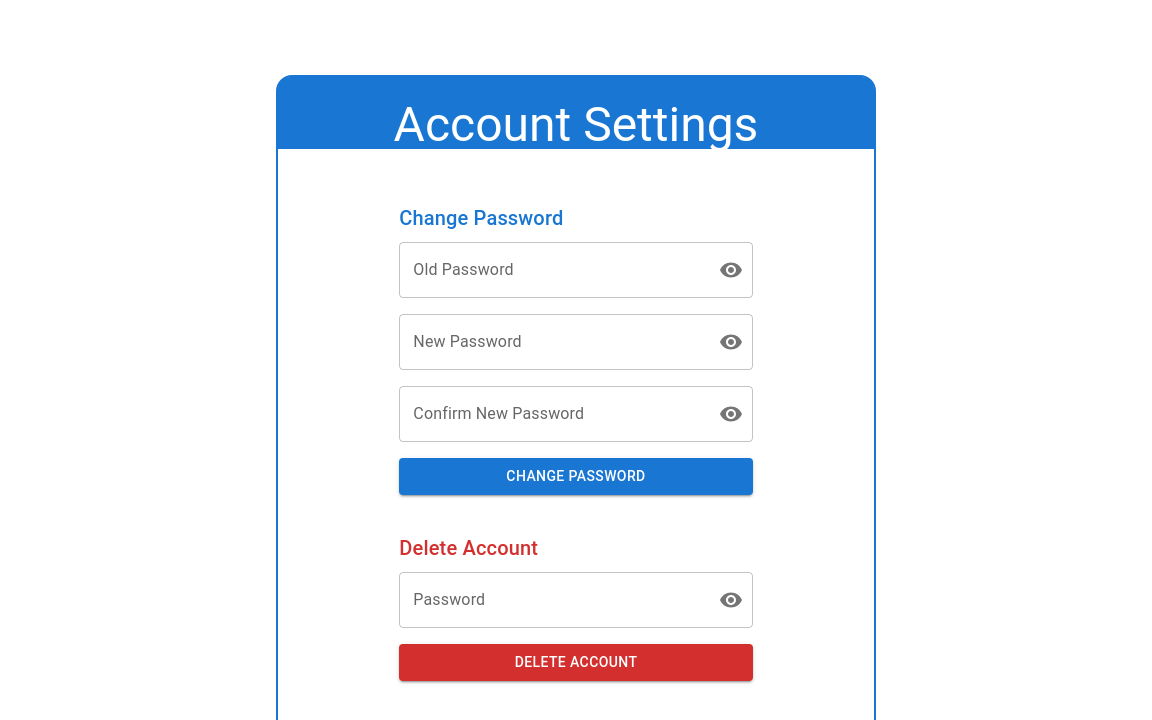
Test: AccountMasterPane › When loaded with the correct app data › when the Change Password button is clicked › sends the ERR_MSG.INPUT_IS_BLANK message when the new password field is blank
Type "oldPassword" into the password field labelled "Old Password" at [551, 270], box [399, 242, 703, 298]
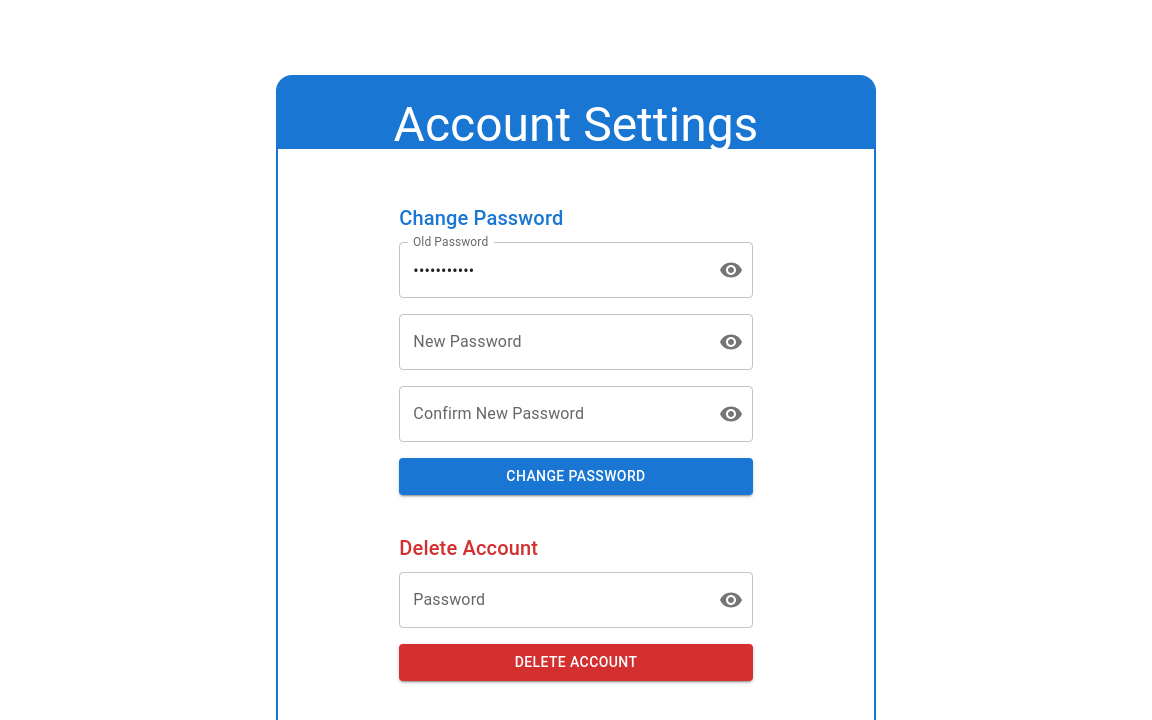
Type "newPassword" into the password field labelled "New Password" at [551, 342], box [399, 314, 703, 370]
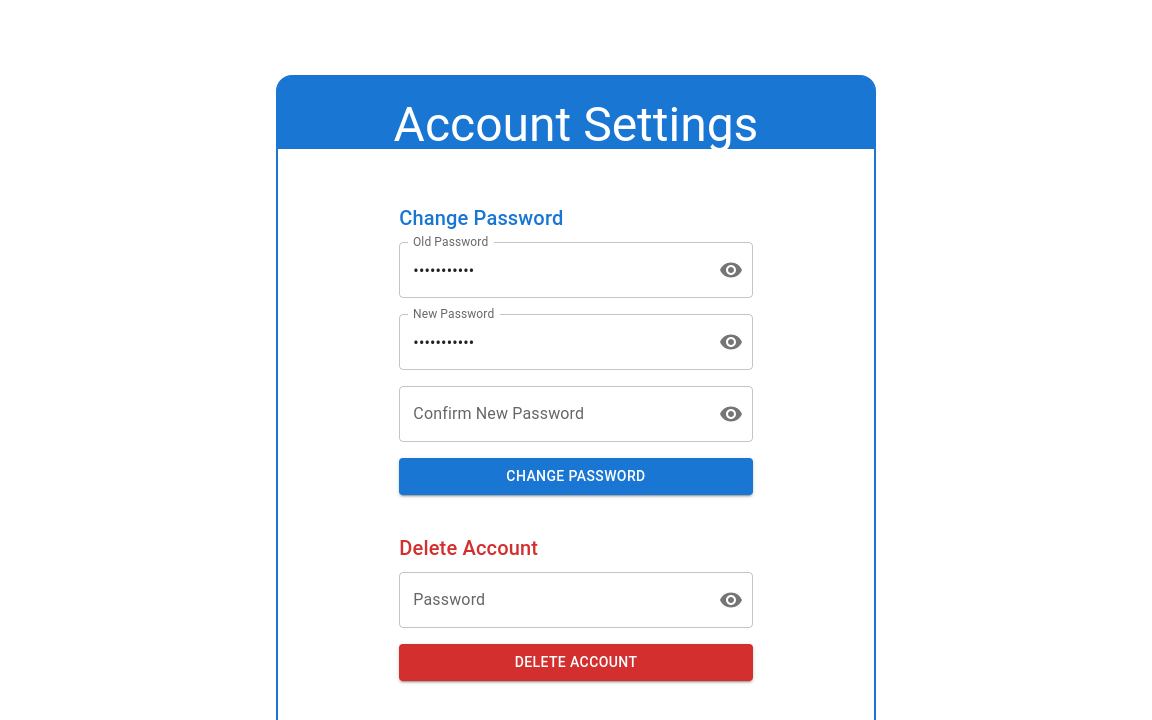
Type "newPassword" into the password field labelled "Confirm New Password" at [551, 414], box [399, 386, 703, 442]
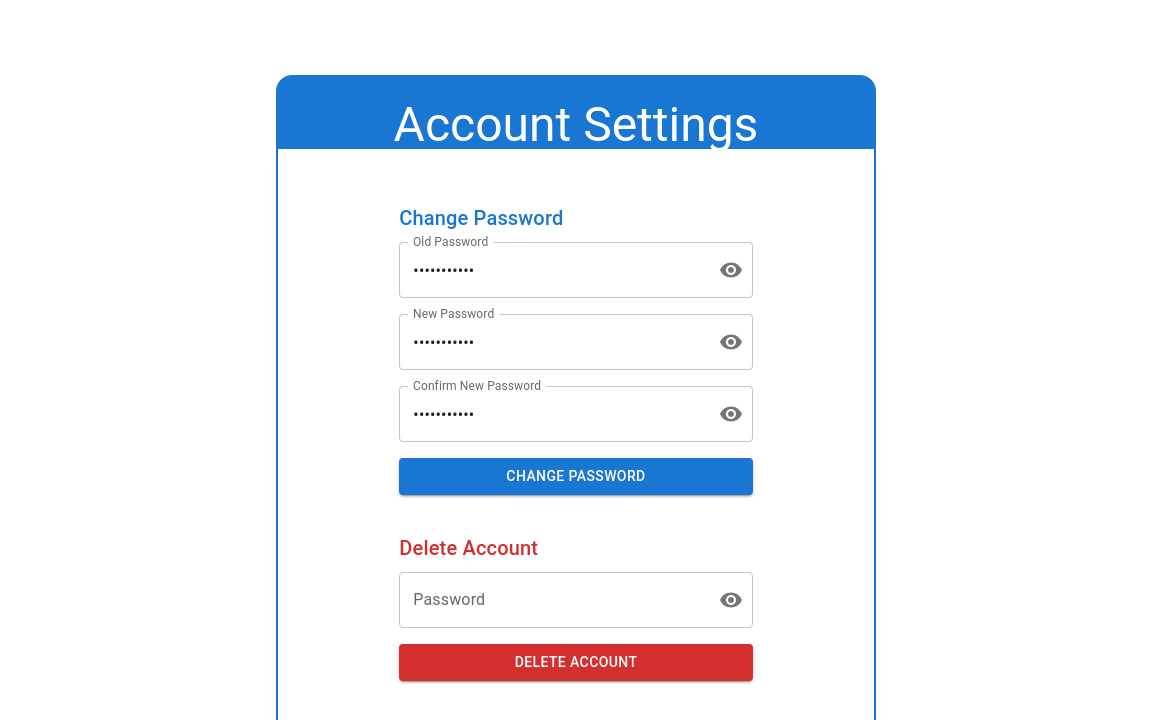
Clear the password field labelled "New Password" at [551, 342], box [399, 314, 703, 370]
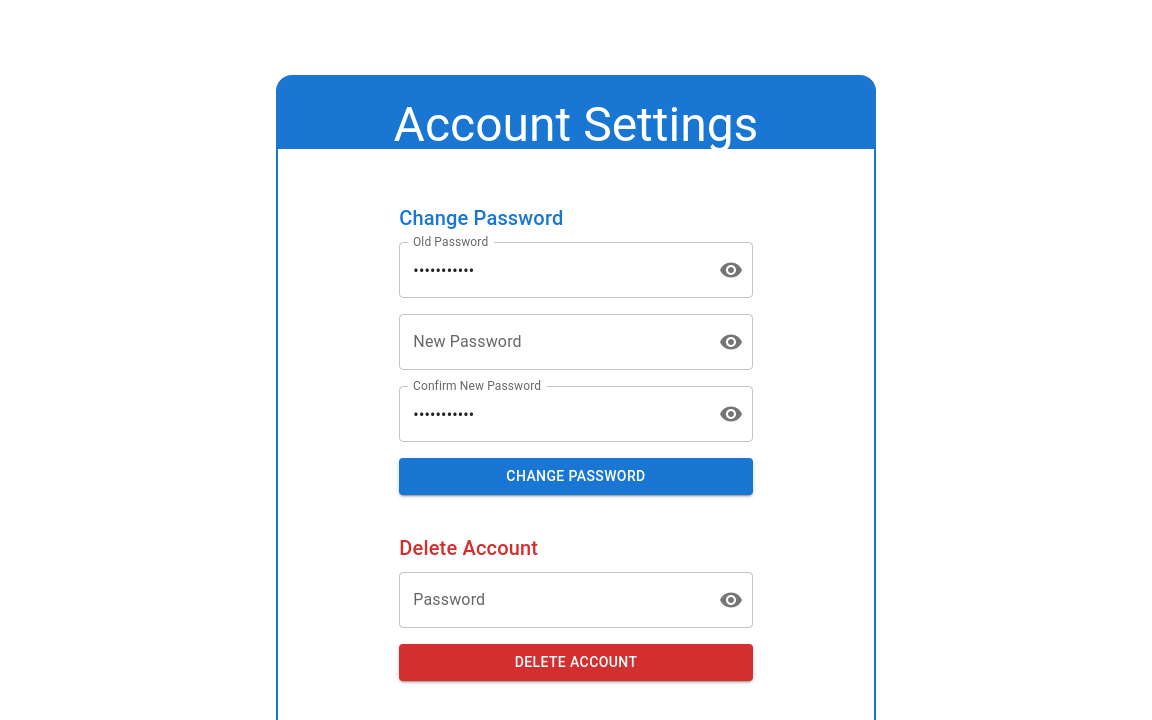
Click the button "Change Password" at [576, 476], box [399, 458, 753, 495]
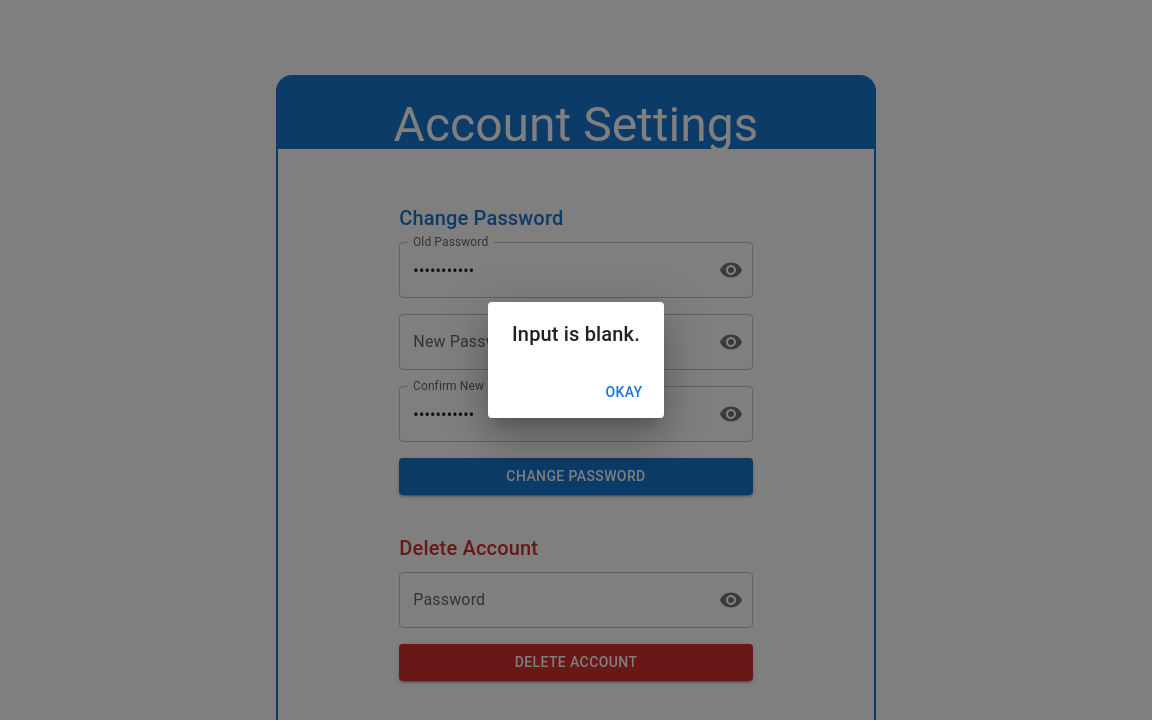
expect the heading "Input is blank." is shown: met, box [512, 322, 640, 346]
